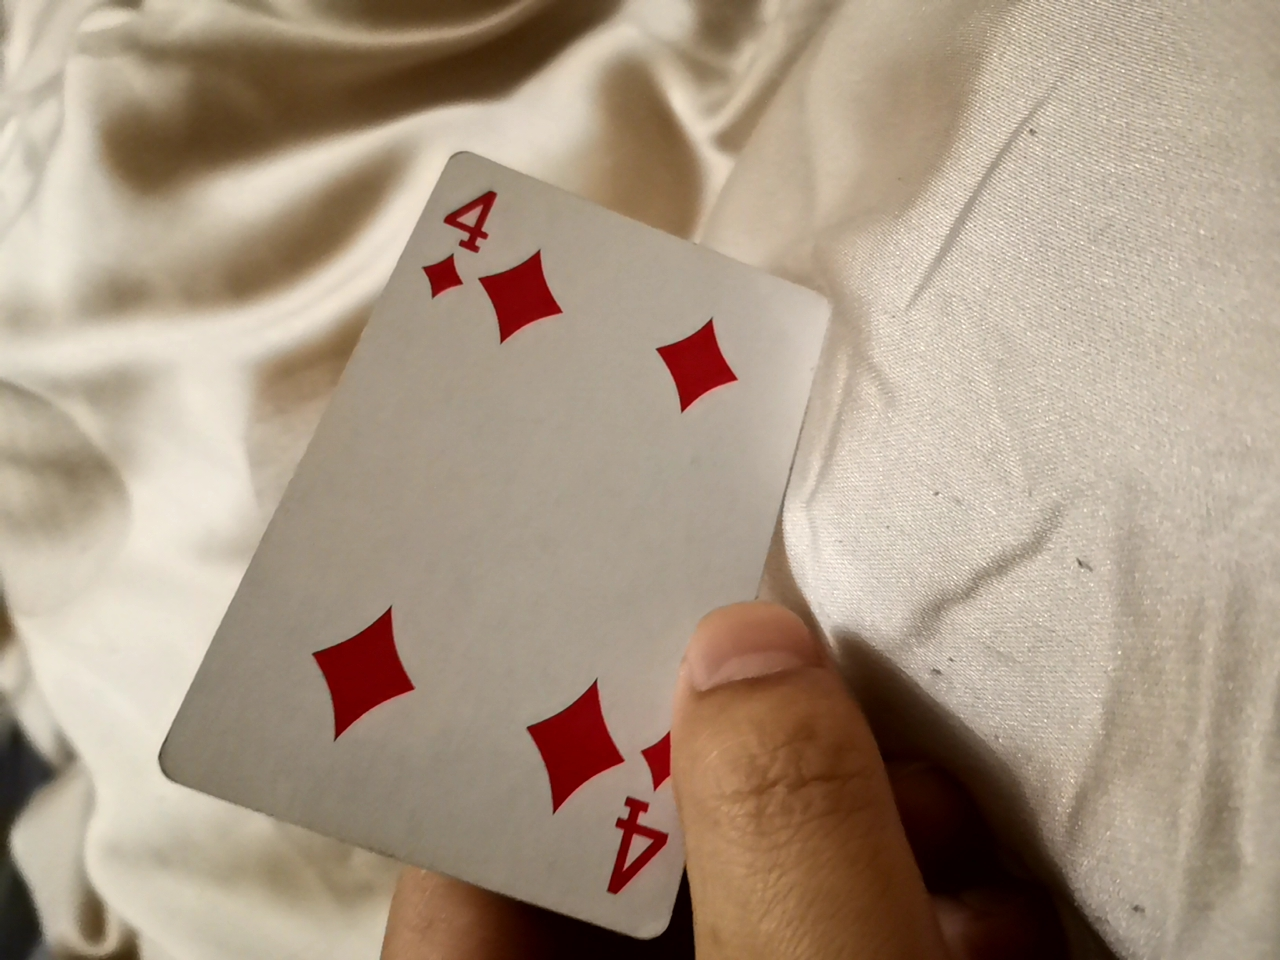fk 4: (237, 104, 817, 937)
